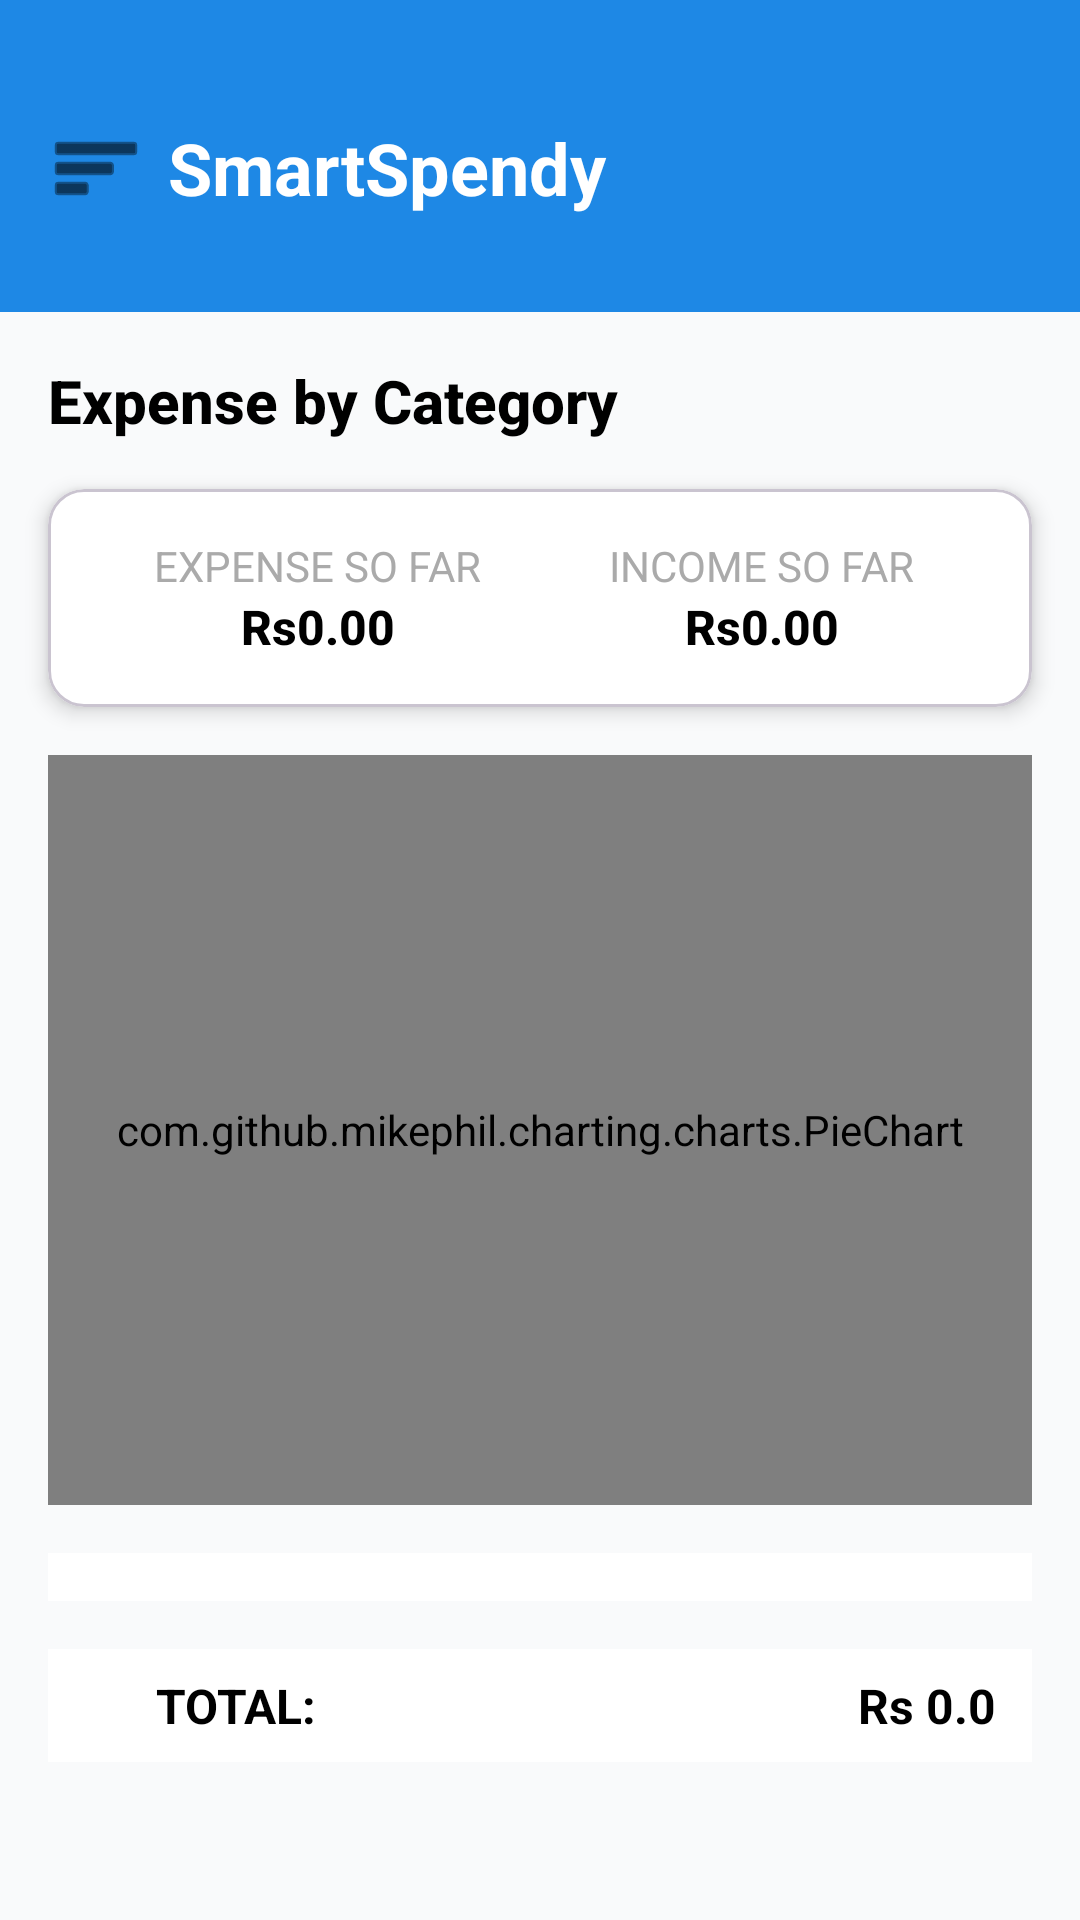

Screen size 1080 x 1920. Icon name, then its box in pixels as box=[x1, y1, x2, y2]:
Menu: box=[55, 142, 137, 195]
